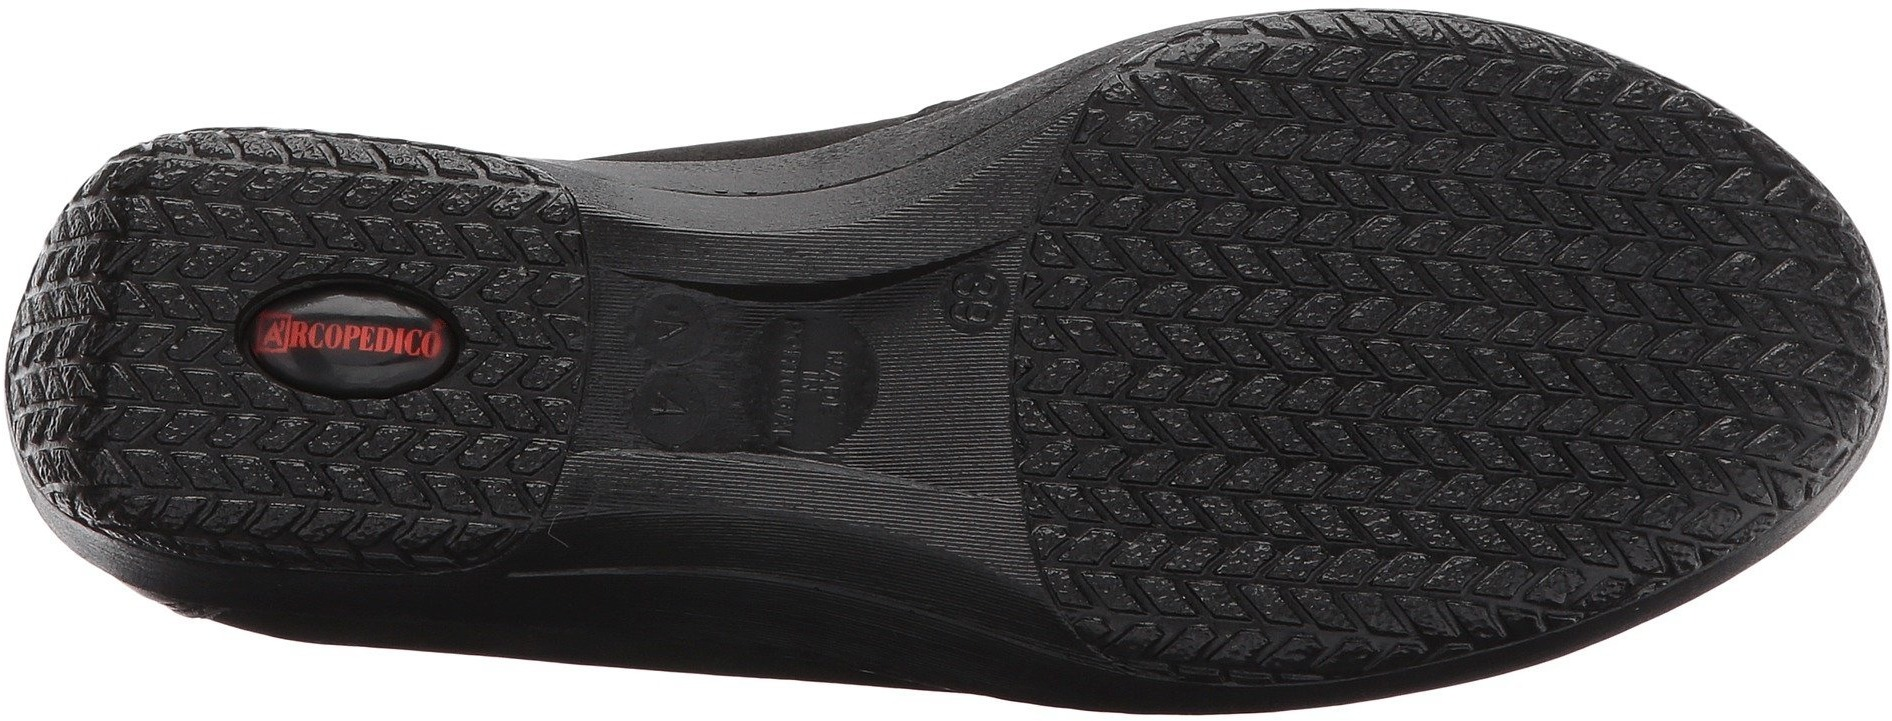other: (878, 401, 1008, 549)
quad: (1551, 142, 1793, 385), (1295, 307, 1551, 533), (1308, 57, 1544, 286), (1055, 326, 1292, 550), (1081, 106, 1303, 301), (30, 263, 234, 464), (1559, 392, 1725, 558), (356, 401, 513, 549), (456, 190, 574, 324)
text: (773, 338, 853, 421), (350, 306, 432, 381), (273, 298, 346, 376), (952, 280, 1002, 330)
